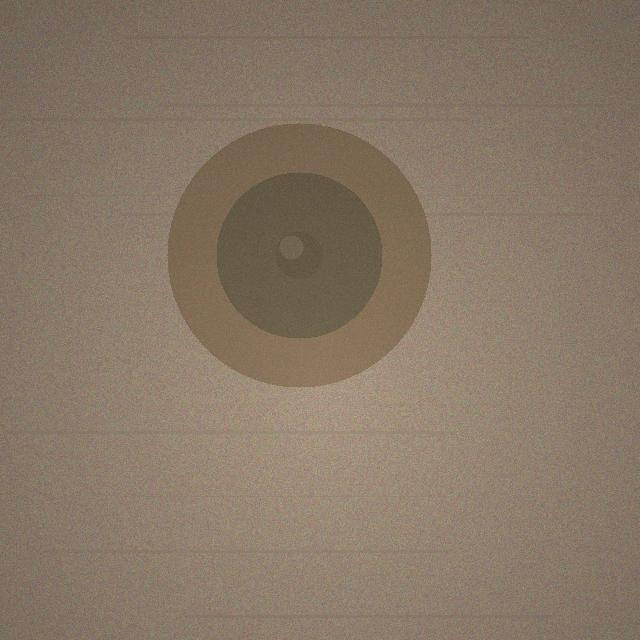good: (167, 123, 431, 387)
